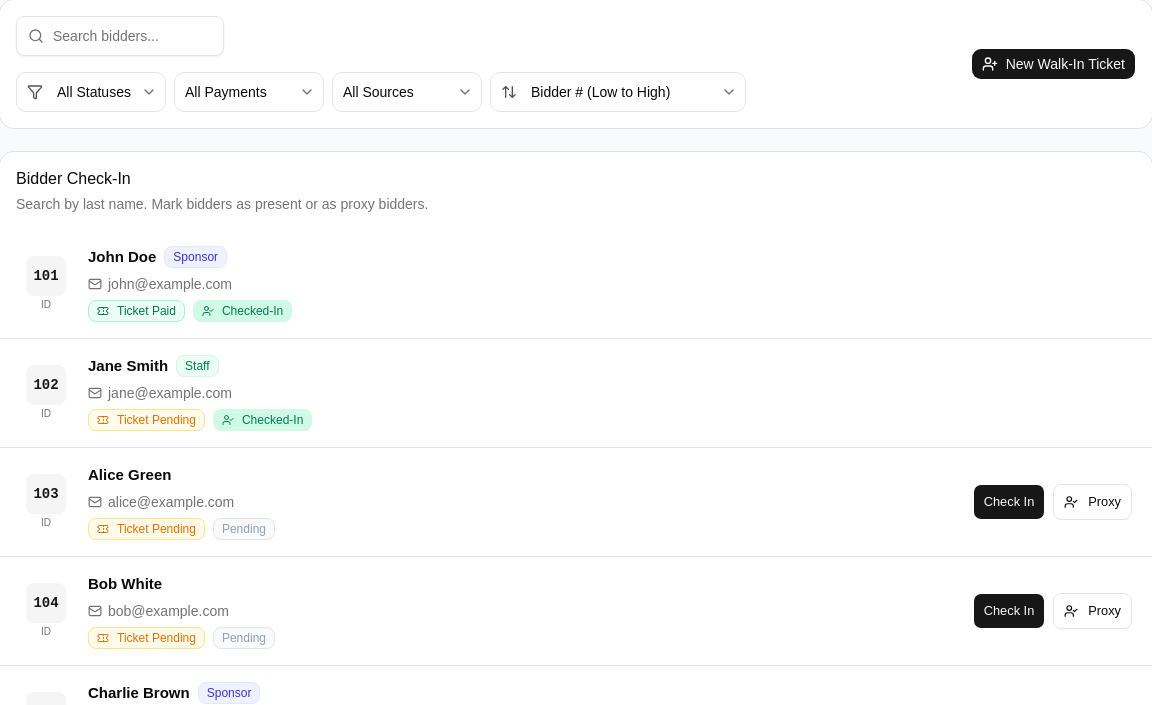
Bidders - Sort and Filter › Payment status filter — paid: Assert only paid bidders are visible
Click the dropdown named "Filter by payment".
click(249, 92)  # box [174,72,324,112]
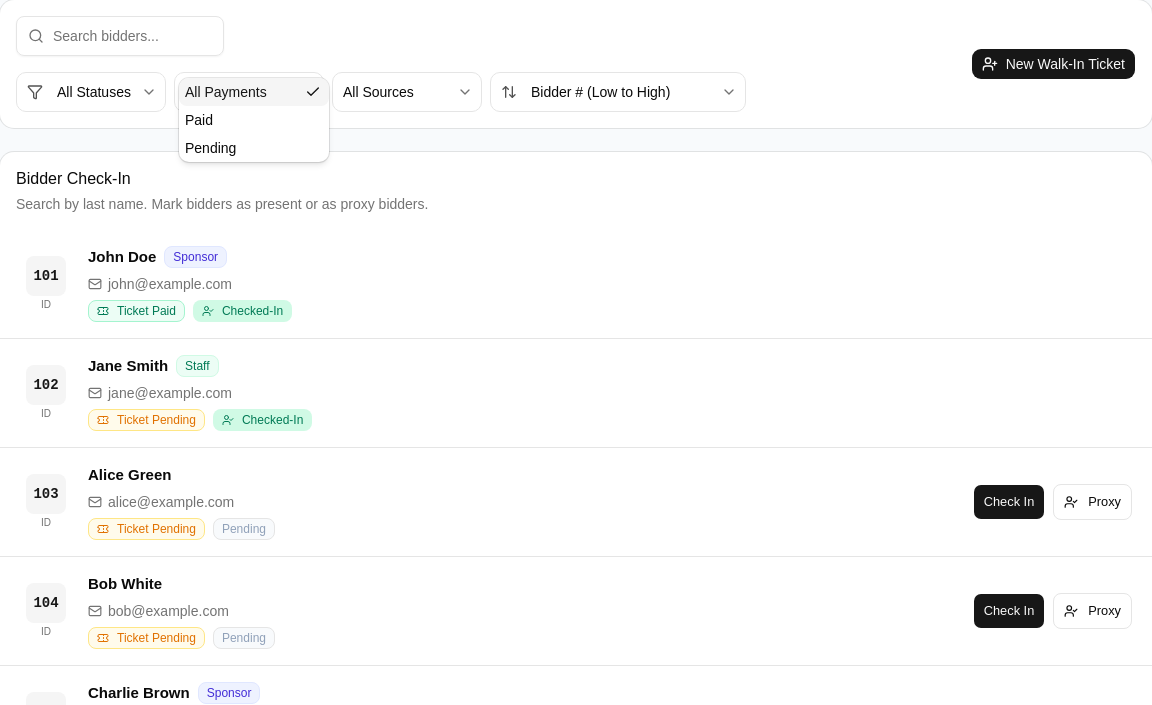
Click the option "Paid".
click(199, 120)  # box [185,112,213,128]
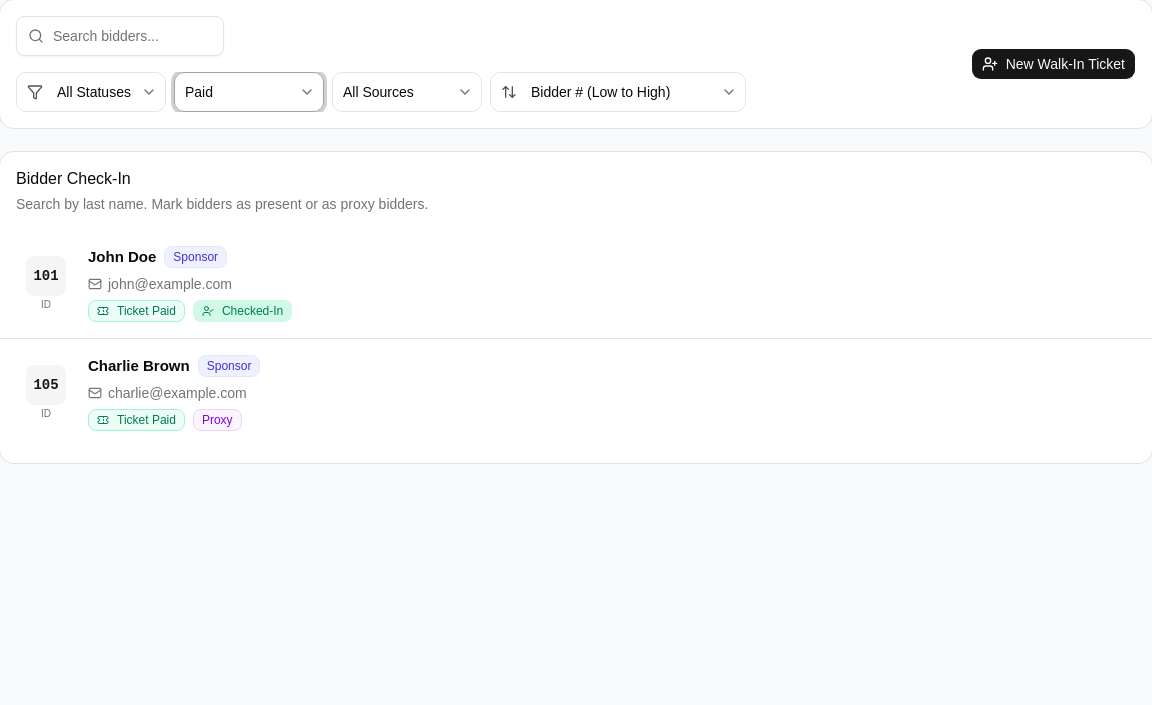
Result: the text "Jane Smith" is gone
Result: the text "Alice Green" is gone
Result: the text "Bob White" is gone
